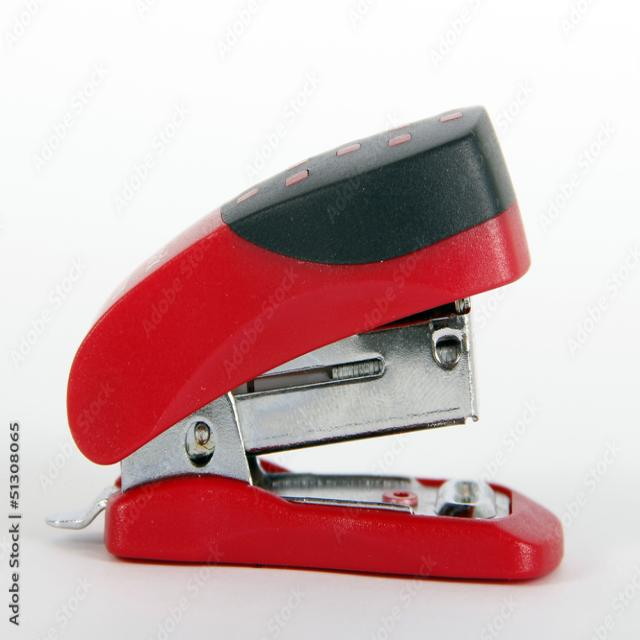Stapler: (44, 92, 582, 603)
